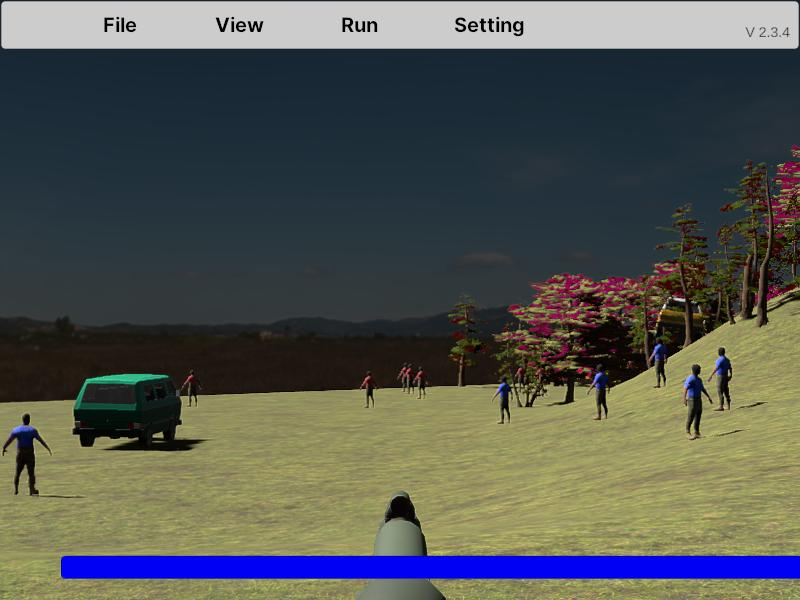Human: (2, 412, 51, 496), (683, 365, 712, 440), (709, 346, 732, 412), (588, 362, 610, 421), (492, 374, 511, 424), (650, 336, 667, 389)
car: (72, 373, 182, 449)
